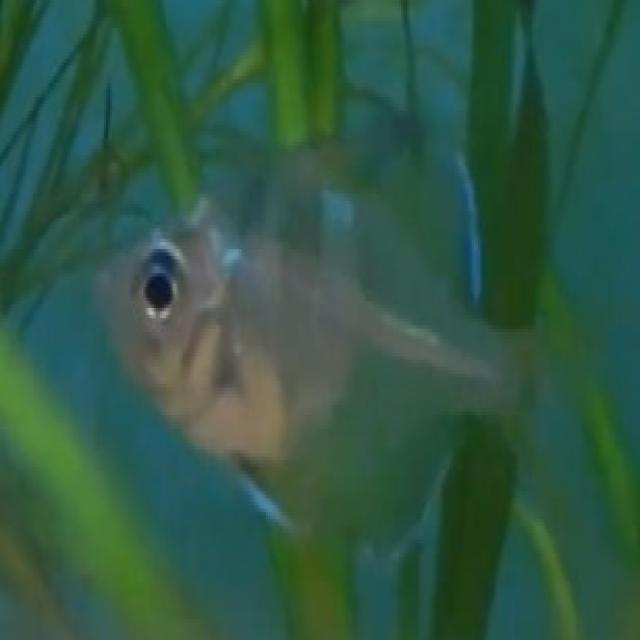Glass-Perchlet: (72, 95, 585, 566)
